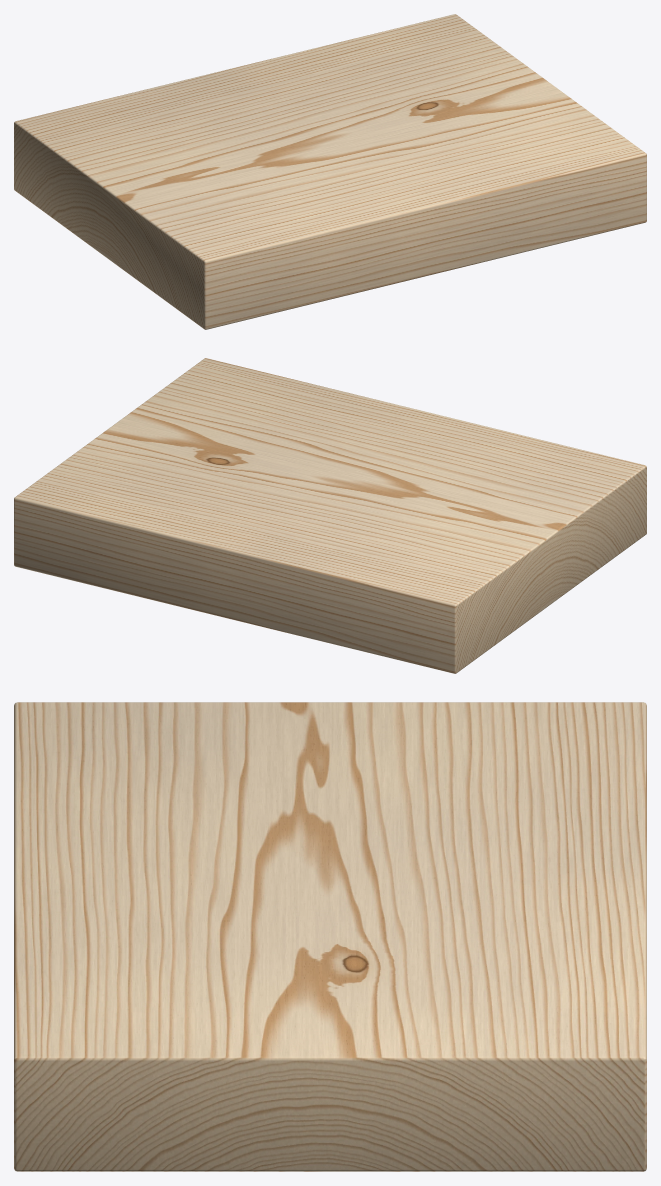
The model's file is s06-table.glb.
The picture shows the model from 3 angles, top to bottom: view 1: azimuth 30°, elevation 25°; view 2: azimuth 150°, elevation 25°; view 3: azimuth 270°, elevation 25°; orthographic projection. The views are drawn at different scales.
Parts seen in each view (by area): view 1: S06_Table; view 2: S06_Table; view 3: S06_Table.
Boxes of the visible parts, bbox=[...] form: S06_Table: bbox=[14, 14, 646, 329]; S06_Table: bbox=[14, 358, 646, 673]; S06_Table: bbox=[14, 702, 646, 1171].
Size of the model in its own units: 0.2 by 0.03 by 0.15.
1 material, 1 textured.
